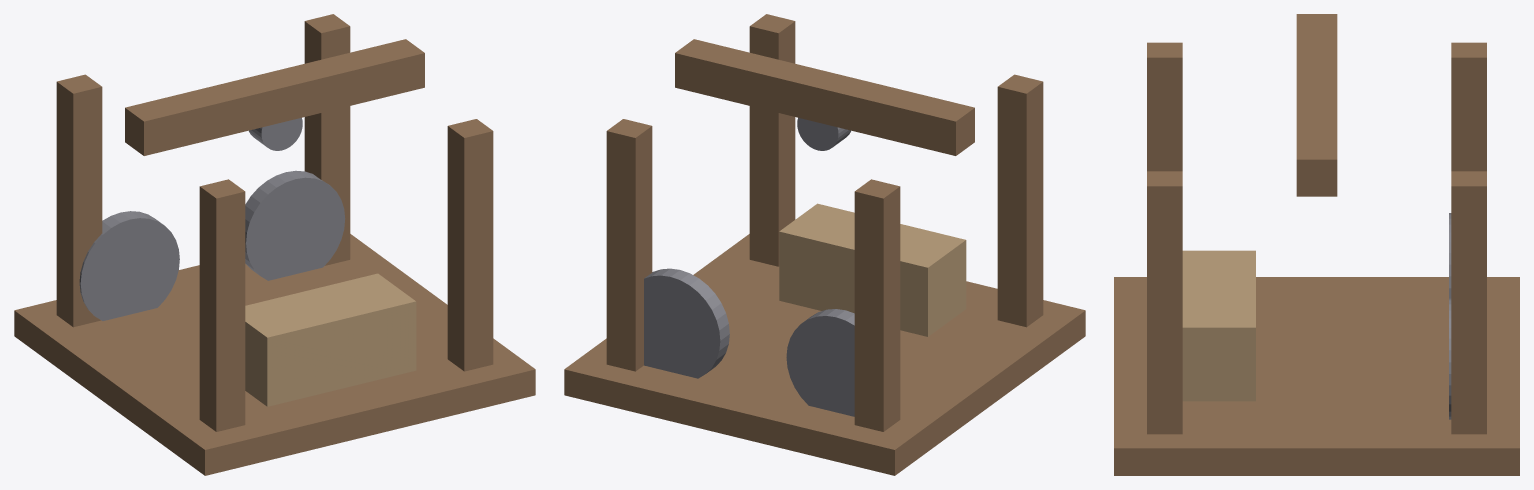
The model's file is siege_workshop.glb.
3 views of the same model, side by side, from view 1: azimuth 30°, elevation 25°; view 2: azimuth 150°, elevation 25°; view 3: azimuth 270°, elevation 25° (orthographic). The views are drawn at different scales.
Parts seen in each view (by area): view 1: Cube, Cube.006, Cube.005, Cube.001, Cube.003, Cube.002, Cylinder.002, Cylinder.001, Cube.004, Cylinder; view 2: Cube, Cube.005, Cube.006, Cube.002, Cube.001, Cube.004, Cube.003, Cylinder.002, Cylinder.001, Cylinder; view 3: Cube, Cube.006, Cube.003, Cube.004, Cube.005, Cube.001, Cube.002.
Part boxes in pixels (left/top/right/bottom): Cube: left=14, top=234, right=535, bottom=475; Cube.006: left=245, top=273, right=416, bottom=406; Cube.005: left=125, top=39, right=424, bottom=155; Cube.001: left=199, top=179, right=245, bottom=431; Cube.003: left=447, top=119, right=493, bottom=371; Cube.002: left=56, top=74, right=102, bottom=327; Cylinder.002: left=245, top=170, right=345, bottom=280; Cylinder.001: left=79, top=211, right=179, bottom=320; Cube.004: left=304, top=14, right=350, bottom=265; Cylinder: left=249, top=117, right=302, bottom=150; Cube: left=564, top=234, right=1085, bottom=475; Cube.005: left=675, top=39, right=974, bottom=155; Cube.006: left=779, top=203, right=966, bottom=336; Cube.002: left=854, top=179, right=900, bottom=431; Cube.001: left=997, top=74, right=1043, bottom=327; Cube.004: left=606, top=119, right=652, bottom=371; Cube.003: left=749, top=14, right=795, bottom=266; Cylinder.002: left=644, top=268, right=729, bottom=378; Cylinder.001: left=786, top=309, right=854, bottom=416; Cylinder: left=797, top=117, right=850, bottom=150; Cube: left=1114, top=277, right=1519, bottom=475; Cube.006: left=1182, top=250, right=1255, bottom=401; Cube.003: left=1147, top=171, right=1182, bottom=434; Cube.004: left=1451, top=171, right=1486, bottom=434; Cube.005: left=1296, top=14, right=1337, bottom=196; Cube.001: left=1147, top=42, right=1182, bottom=171; Cube.002: left=1451, top=42, right=1486, bottom=171.
Size of the model in its own units: 4 by 3.3 by 4.
